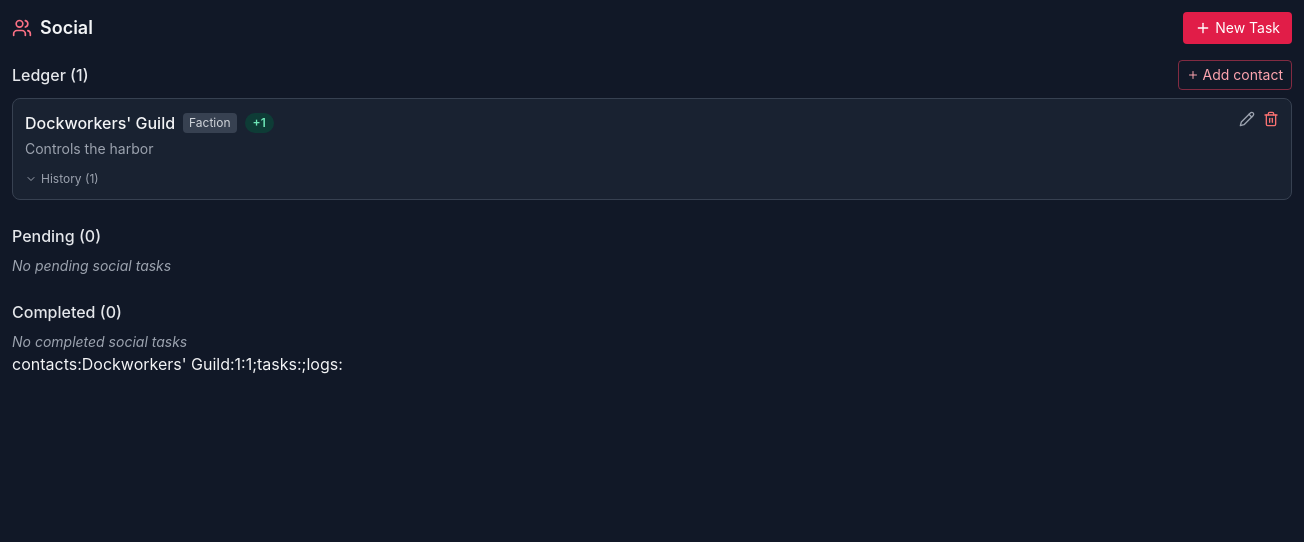
SocialActivity › renders, edits, and expands ledger history
Expected: the element with test id "contact-card" shows "Dockworkers' Guild", top-left (25, 113), bottom-right (175, 133)
Step 1. Click the button with test id "contact-history-toggle" → (62,179), box top-left (25, 171), bottom-right (99, 187)
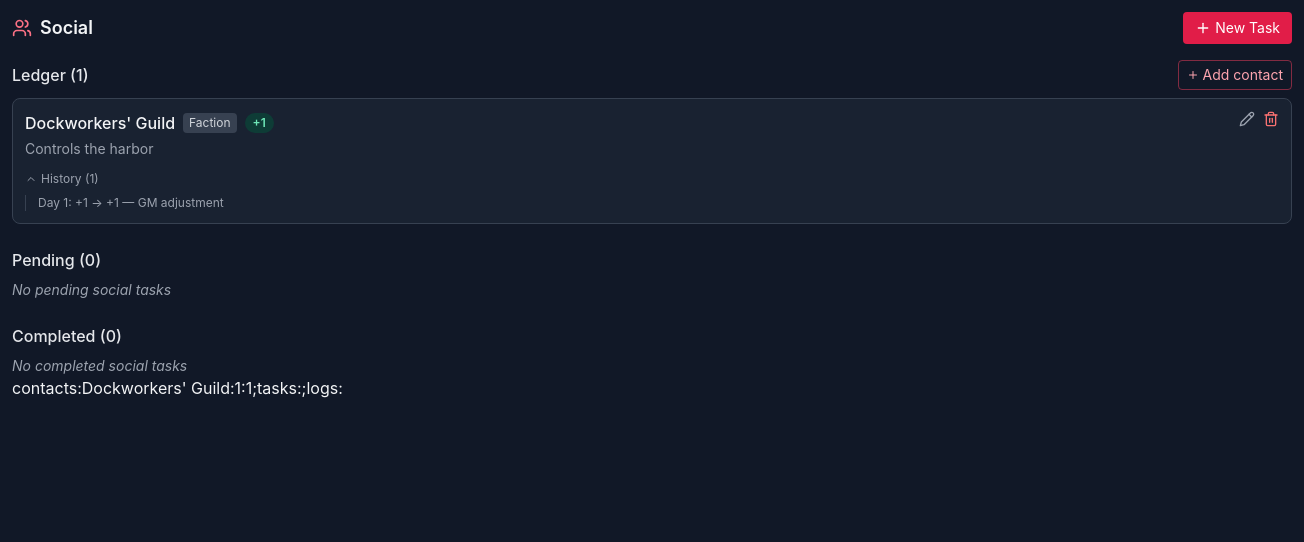
Now the list with test id "contact-history" reads "Day 1: +1 → +1 — GM adjustment", box top-left (25, 195), bottom-right (1279, 211)
Step 2. Click the button named "Edit Dockworkers' Guild" → (1247,119), box top-left (1239, 111), bottom-right (1255, 127)
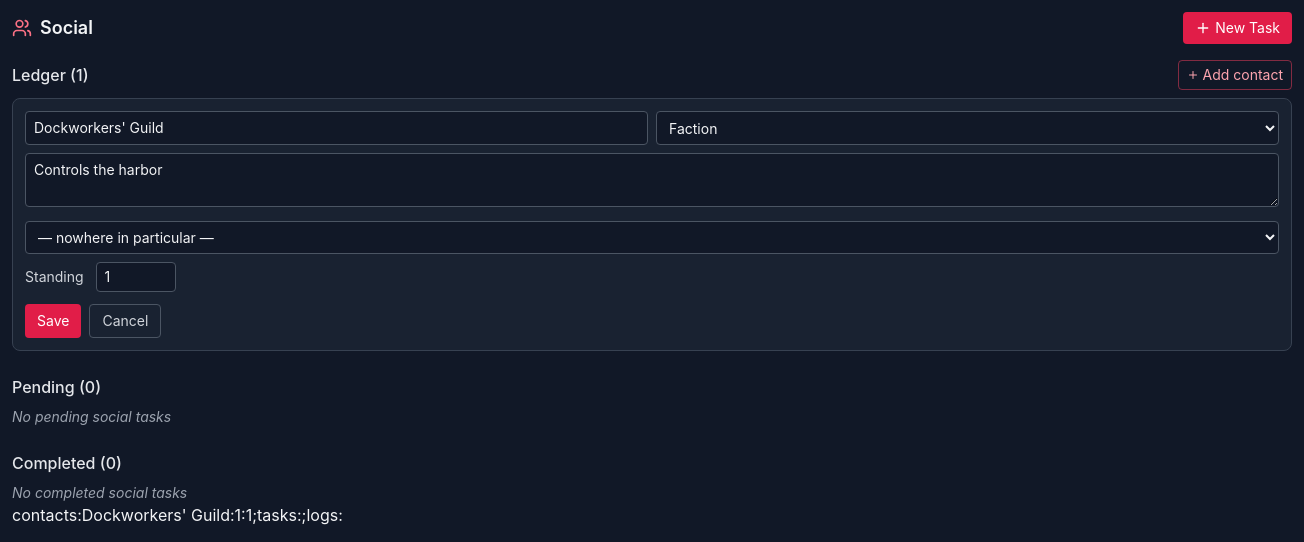
Step 3. Replace the text in the number field named "Contact modifier" with "2" → (136,277), box top-left (96, 262), bottom-right (176, 292)
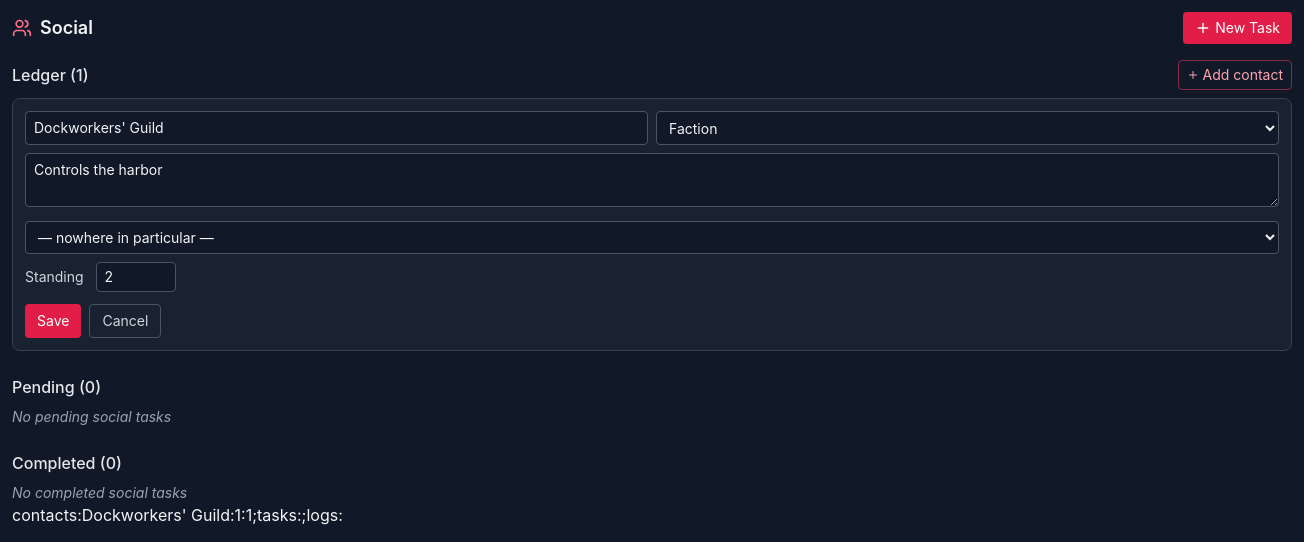
Step 4. Click the button with test id "save-contact-button" → (53,321), box top-left (25, 304), bottom-right (81, 338)
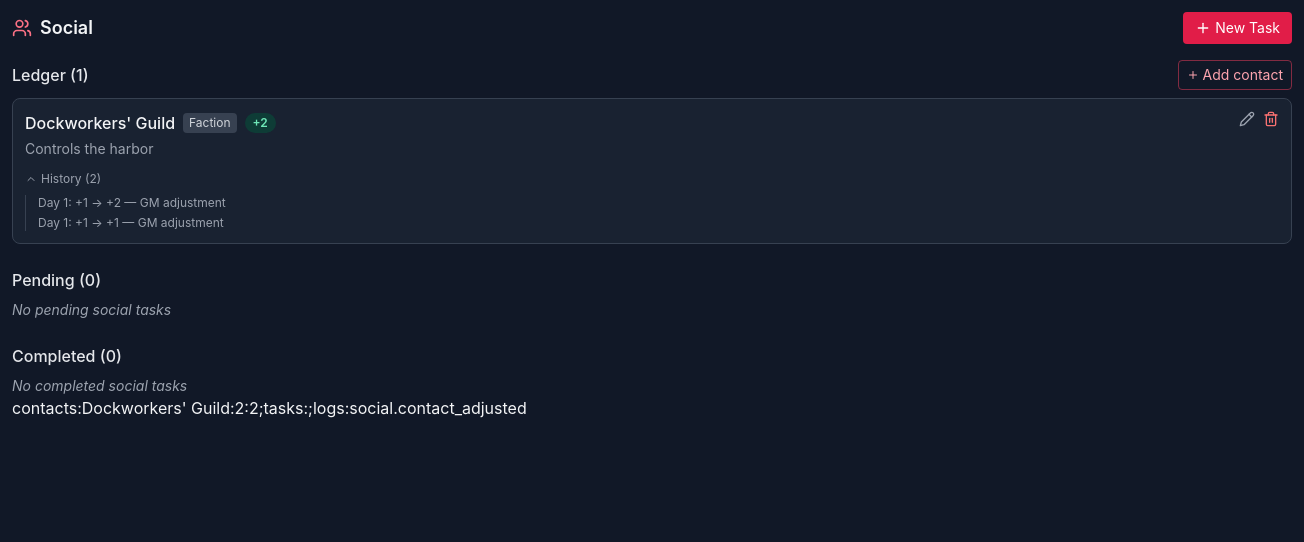
Now the text with test id "observer" shows "Dockworkers' Guild:2:2", box top-left (82, 398), bottom-right (259, 418)
Now the text with test id "observer" shows "social.contact_adjusted", box top-left (349, 398), bottom-right (527, 418)
